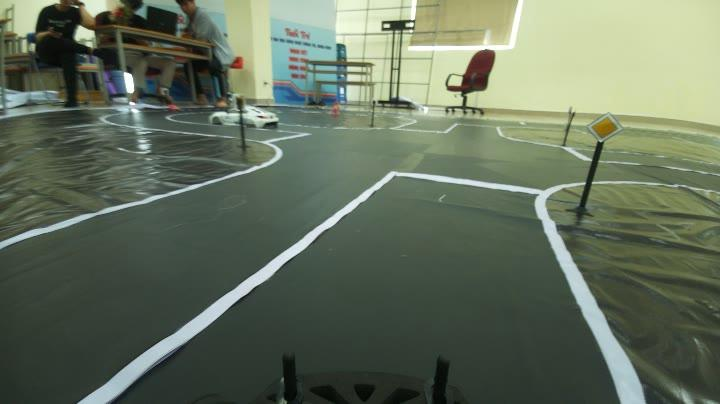priority: (592, 108, 626, 146)
